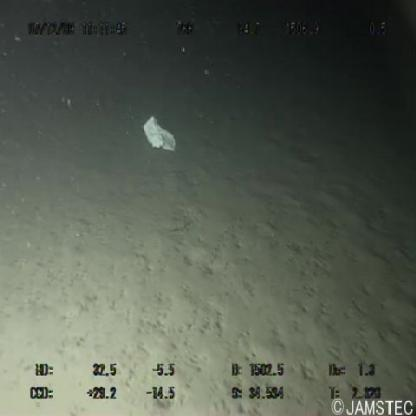Rác: (138, 111, 184, 156)
